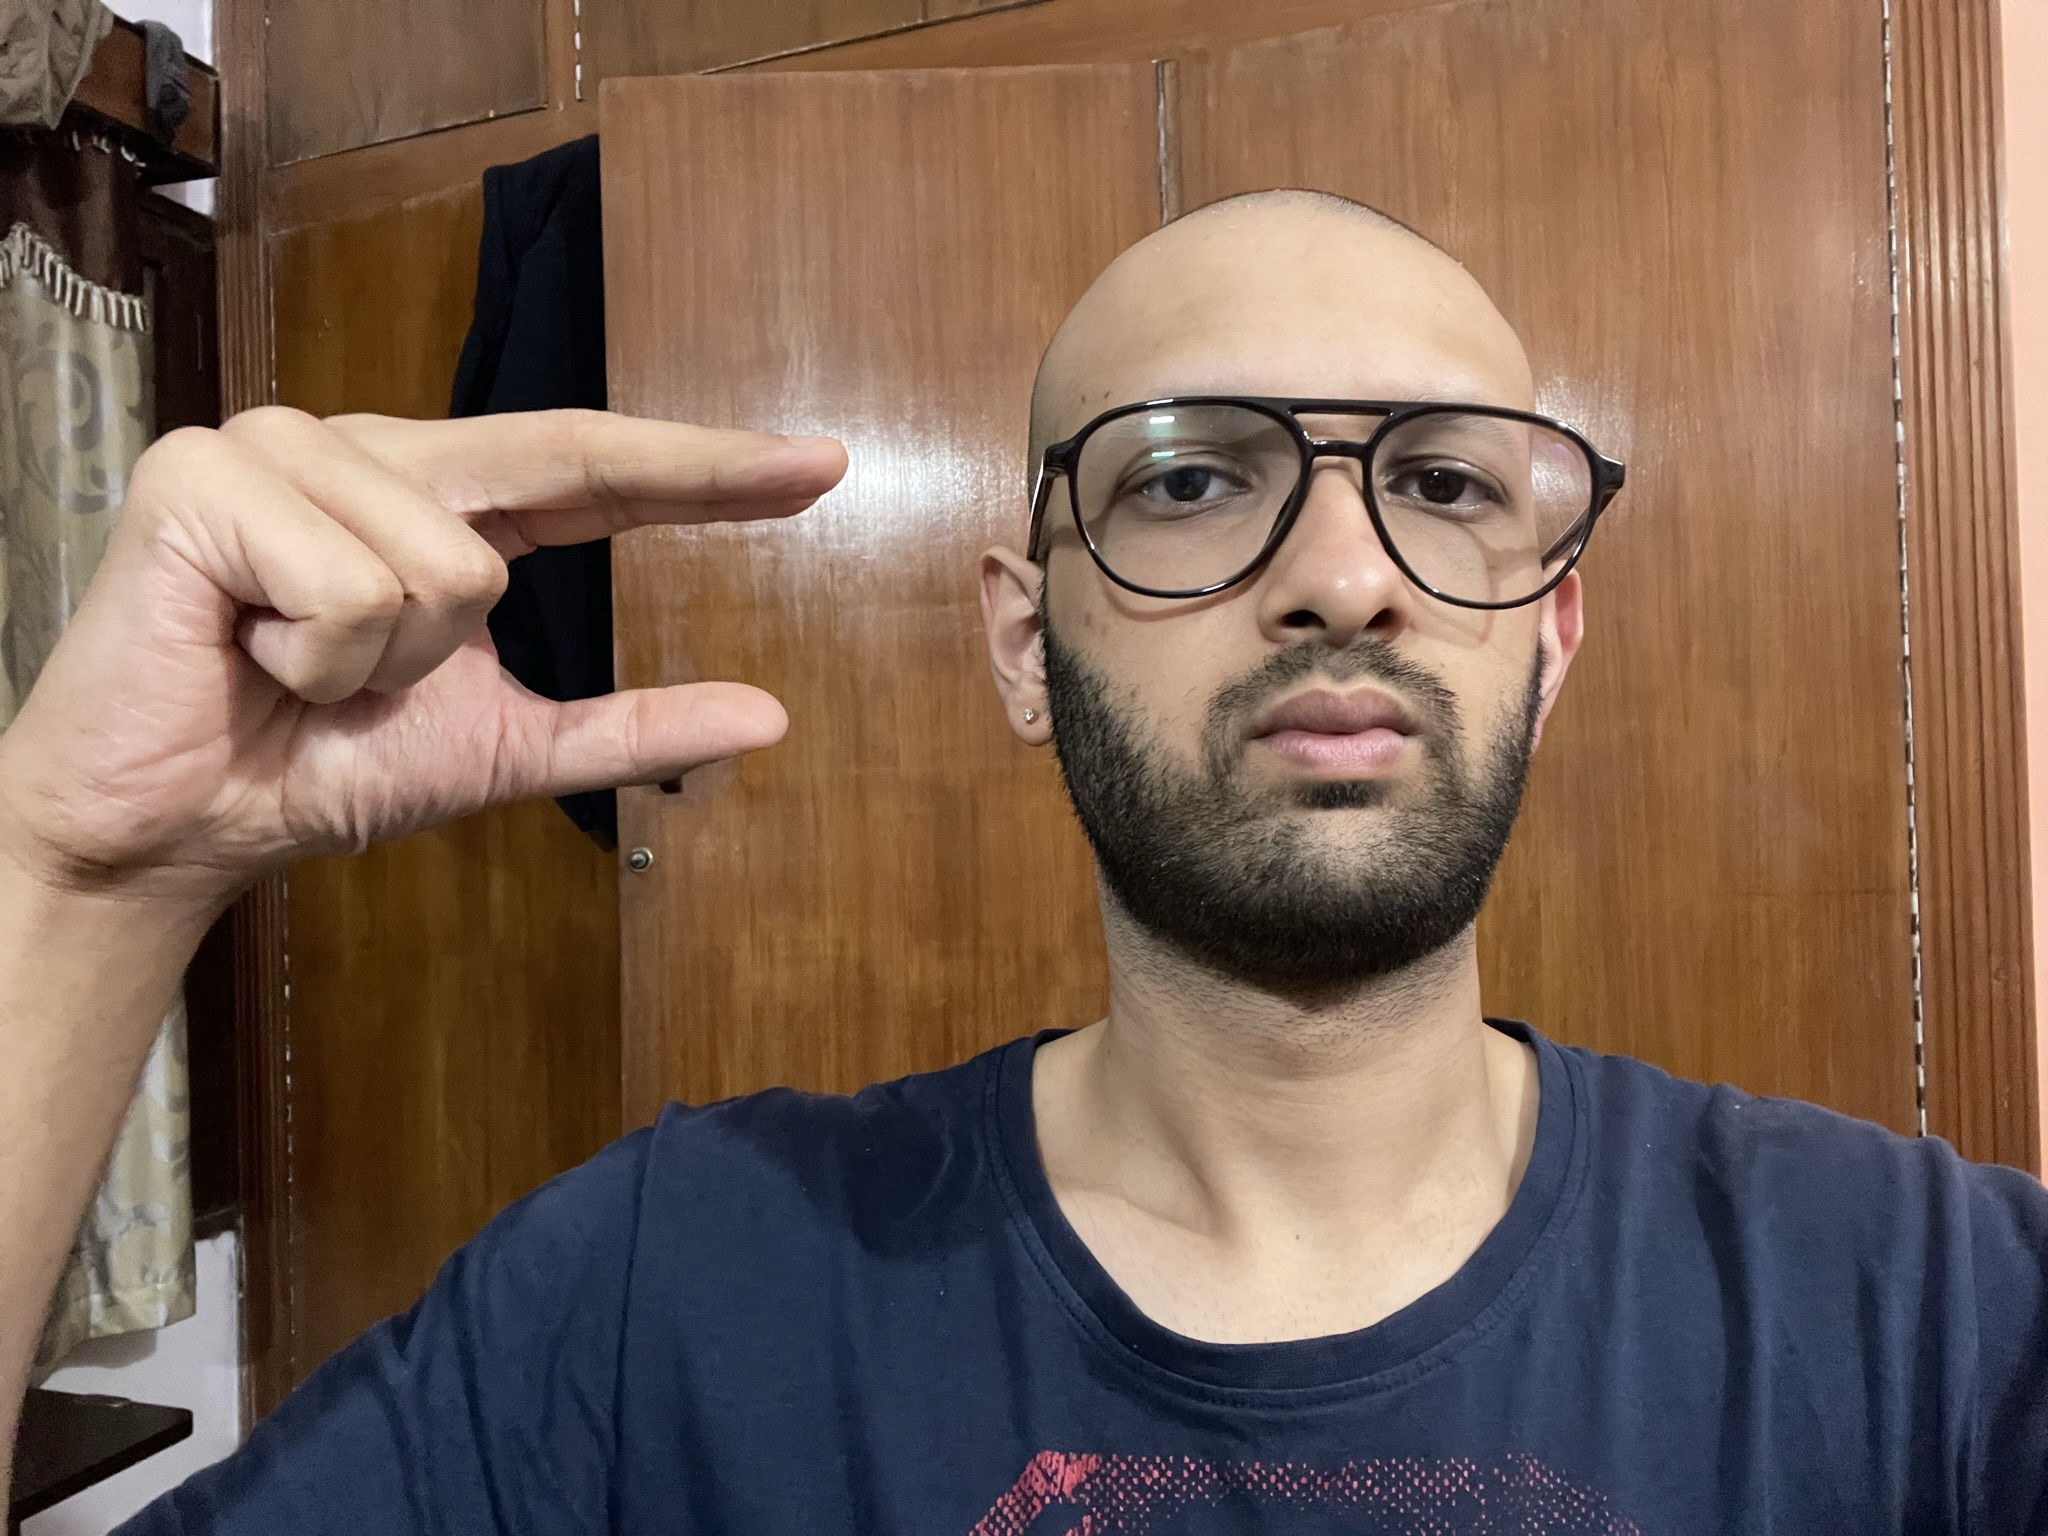No: (29, 399, 861, 870)
